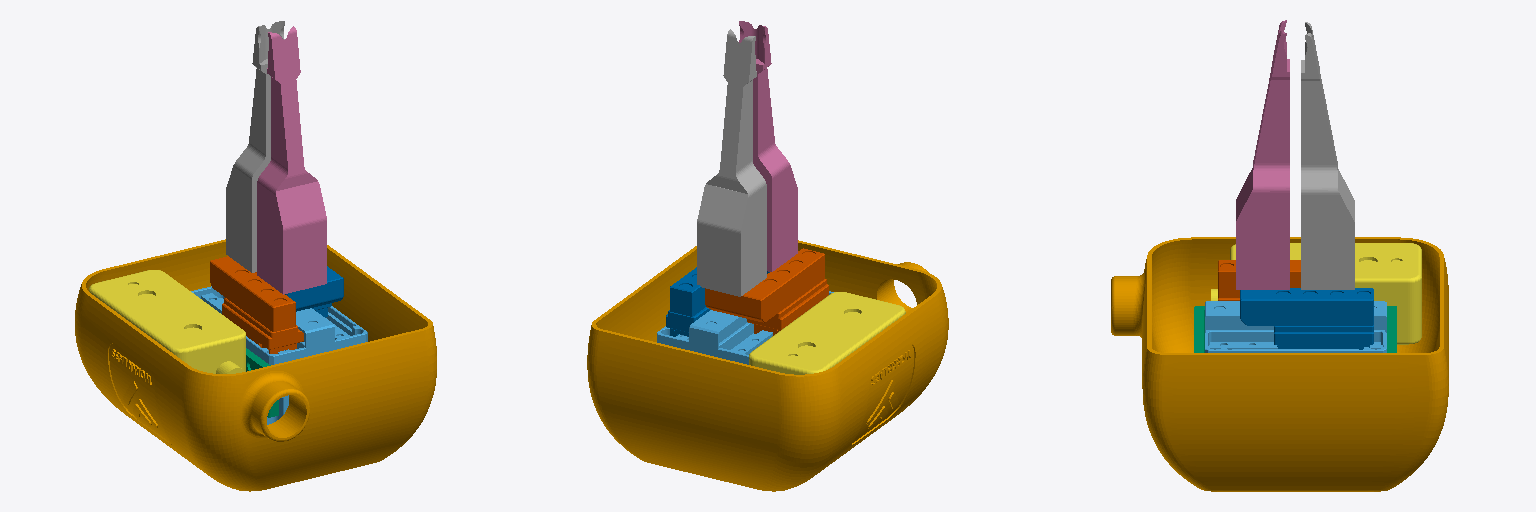
URDF robot description (eoat_long_fingers):
<?xml version="1.0" ?>
<robot name="eoat_long_fingers">

  <link name="gripper_base_link">
    <inertial>
      <origin xyz="-0.012996211999304508 -0.0024019764547994742 0.04076982152867182" rpy="0 0 0"/>
      <mass value="1.0605000550809303"/>
      <inertia ixx="0.004249" iyy="0.003671" izz="0.006383" ixy="-9.1e-05" iyz="6.4e-05" ixz="5.7e-05"/>
    </inertial>
    <visual>
      <origin xyz="0 0 0" rpy="0 0 0"/>
      <geometry>
        <mesh filename="eoat_meshes/base_link.stl" scale="0.001 0.001 0.001"/>
      </geometry>
      <material name="silver"/>
    </visual>
    <collision>
      <origin xyz="0 0 0" rpy="0 0 0"/>
      <geometry>
        <mesh filename="eoat_meshes/base_link.stl" scale="0.001 0.001 0.001"/>
      </geometry>
    </collision>
    </link>

  <link name="dh_robotics_body_1">
    <inertial>
      <origin xyz="-0.02681051277084723 -0.04467270928249986 0.03854641882498553" rpy="0 0 0"/>
      <mass value="3.18213722421451"/>
      <inertia ixx="0.003866" iyy="0.002335" izz="0.003358" ixy="-0.0" iyz="1.4e-05" ixz="-1e-06"/>
    </inertial>
    <visual>
      <origin xyz="-0.027086 -0.04375 -0.0024" rpy="0 0 0"/>
      <geometry>
        <mesh filename="eoat_meshes/dh_robotics_body_1.stl" scale="0.001 0.001 0.001"/>
      </geometry>
      <material name="silver"/>
    </visual>
    <collision>
      <origin xyz="-0.027086 -0.04375 -0.0024" rpy="0 0 0"/>
      <geometry>
        <mesh filename="eoat_meshes/dh_robotics_body_1.stl" scale="0.001 0.001 0.001"/>
      </geometry>
    </collision>
    </link>

  <link name="eoat_small_mount_1">
    <inertial>
      <origin xyz="0.01578890613988798 0.032881734772587795 -0.012002171986736913" rpy="0 0 0"/>
      <mass value="0.5078346893462174"/>
      <inertia ixx="0.00063" iyy="0.000902" izz="0.001469" ixy="4e-05" iyz="8e-06" ixz="-1.3e-05"/>
    </inertial>
    <visual>
      <origin xyz="0.030514 0.0275 -0.0643" rpy="0 0 0"/>
      <geometry>
        <mesh filename="eoat_meshes/eoat_small_mount_1.stl" scale="0.001 0.001 0.001"/>
      </geometry>
      <material name="silver"/>
    </visual>
    <collision>
      <origin xyz="0.030514 0.0275 -0.0643" rpy="0 0 0"/>
      <geometry>
        <mesh filename="eoat_meshes/eoat_small_mount_1.stl" scale="0.001 0.001 0.001"/>
      </geometry>
    </collision>
    </link>

  <link name="framos_d435e_1">
    <inertial>
      <origin xyz="-0.018694079306878303 0.02193359710023336 0.018961754588262228" rpy="0 0 0"/>
      <mass value="1.3969119500858993"/>
      <inertia ixx="0.00134" iyy="0.000416" izz="0.001426" ixy="4e-06" iyz="-1e-06" ixz="0.0"/>
    </inertial>
    <visual>
      <origin xyz="0.040064 0.0067 -0.0493" rpy="0 0 0"/>
      <geometry>
        <mesh filename="eoat_meshes/framos_d435e_1.stl" scale="0.001 0.001 0.001"/>
      </geometry>
      <material name="silver"/>
    </visual>
    <collision>
      <origin xyz="0.040064 0.0067 -0.0493" rpy="0 0 0"/>
      <geometry>
        <mesh filename="eoat_meshes/framos_d435e_1.stl" scale="0.001 0.001 0.001"/>
      </geometry>
    </collision>
    </link>

  <link name="dh_robotics_finger_2_1">
    <inertial>
      <origin xyz="-0.016972233255735367 -0.06037809562342396 0.004552489278633928" rpy="0 0 0"/>
      <mass value="0.4627919710419897"/>
      <inertia ixx="0.000413" iyy="0.000291" izz="0.000225" ixy="-5.7e-05" iyz="0.000111" ixz="7.1e-05"/>
    </inertial>
    <visual>
      <origin xyz="-0.026522 -0.057026 -0.101575" rpy="0 0 0"/>
      <geometry>
        <mesh filename="eoat_meshes/dh_robotics_finger_2_1.stl" scale="0.001 0.001 0.001"/>
      </geometry>
      <material name="silver"/>
    </visual>
    <collision>
      <origin xyz="-0.026522 -0.057026 -0.101575" rpy="0 0 0"/>
      <geometry>
        <mesh filename="eoat_meshes/dh_robotics_finger_2_1.stl" scale="0.001 0.001 0.001"/>
      </geometry>
    </collision>
    </link>

  <link name="dh_robotics_finger_1_1">
    <inertial>
      <origin xyz="0.009600781936190792 -0.017373904376575773 0.0035524892786333723" rpy="0 0 0"/>
      <mass value="0.46279197104200676"/>
      <inertia ixx="0.000413" iyy="0.000291" izz="0.000225" ixy="-5.7e-05" iyz="-0.000111" ixz="-7.1e-05"/>
    </inertial>
    <visual>
      <origin xyz="0.018478 -0.020726 -0.101575" rpy="0 0 0"/>
      <geometry>
        <mesh filename="eoat_meshes/dh_robotics_finger_1_1.stl" scale="0.001 0.001 0.001"/>
      </geometry>
      <material name="silver"/>
    </visual>
    <collision>
      <origin xyz="0.018478 -0.020726 -0.101575" rpy="0 0 0"/>
      <geometry>
        <mesh filename="eoat_meshes/dh_robotics_finger_1_1.stl" scale="0.001 0.001 0.001"/>
      </geometry>
    </collision>
    </link>

  <link name="long_finger_2_1">
    <inertial>
      <origin xyz="2.7434026480963264e-07 -0.0014362914745991232 -0.0014740147176616203" rpy="0 0 0"/>
      <mass value="0.23293638337878628"/>
      <inertia ixx="0.000293" iyy="0.000292" izz="3.2e-05" ixy="-0.0" iyz="-2.5e-05" ixz="-0.0"/>
    </inertial>
    <visual>
      <origin xyz="-0.000336 0.01275 -0.1594" rpy="0 0 0"/>
      <geometry>
        <mesh filename="eoat_meshes/long_finger_2_1.stl" scale="0.001 0.001 0.001"/>
      </geometry>
      <material name="silver"/>
    </visual>
    <collision>
      <origin xyz="-0.000336 0.01275 -0.1594" rpy="0 0 0"/>
      <geometry>
        <mesh filename="eoat_meshes/long_finger_2_1.stl" scale="0.001 0.001 0.001"/>
      </geometry>
    </collision>
    </link>

  <link name="long_finger_1_1">
    <inertial>
      <origin xyz="2.7434019061323275e-07 0.0014362914745988473 -0.001474014717661648" rpy="0 0 0"/>
      <mass value="0.23293638337878628"/>
      <inertia ixx="0.000293" iyy="0.000292" izz="3.2e-05" ixy="-0.0" iyz="2.5e-05" ixz="0.0"/>
    </inertial>
    <visual>
      <origin xyz="-0.000336 -0.01275 -0.1584" rpy="0 0 0"/>
      <geometry>
        <mesh filename="eoat_meshes/long_finger_1_1.stl" scale="0.001 0.001 0.001"/>
      </geometry>
      <material name="silver"/>
    </visual>
    <collision>
      <origin xyz="-0.000336 -0.01275 -0.1584" rpy="0 0 0"/>
      <geometry>
        <mesh filename="eoat_meshes/long_finger_1_1.stl" scale="0.001 0.001 0.001"/>
      </geometry>
    </collision>
    </link>

  <joint name="Rigid 2" type="fixed">
    <origin xyz="0.027086 0.04375 0.0024" rpy="0 0 0"/>
    <parent link="gripper_base_link"/>
    <child link="dh_robotics_body_1"/>
    </joint>

  <joint name="Rigid 7" type="fixed">
    <origin xyz="-0.0576 -0.07125 0.0619" rpy="0 0 0"/>
    <parent link="dh_robotics_body_1"/>
    <child link="eoat_small_mount_1"/>
    </joint>

  <joint name="Rigid 8" type="fixed">
    <origin xyz="-0.00955 0.0208 -0.015" rpy="0 0 0"/>
    <parent link="eoat_small_mount_1"/>
    <child link="framos_d435e_1"/>
    </joint>

  <joint name="Slider 10" type="prismatic">
    <origin xyz="-0.000564 0.013276 0.099175" rpy="0 0 0"/>
    <parent link="dh_robotics_body_1"/>
    <child link="dh_robotics_finger_2_1"/>
    <axis xyz="0.0 1.0 -0.0"/>
    <limit upper="0.0" lower="-0.04" effort="100" velocity="100"/>
    </joint>

  <joint name="Slider 11" type="prismatic">
    <origin xyz="-0.045564 -0.023024 0.099175" rpy="0 0 0"/>
    <parent link="dh_robotics_body_1"/>
    <child link="dh_robotics_finger_1_1"/>
    <axis xyz="0.0 1.0 -0.0"/>
    <limit upper="0.04" lower="0.0" effort="100" velocity="100"/>
    </joint>

  <joint name="Rigid 15" type="fixed">
    <origin xyz="-0.026186 -0.069776 0.057825" rpy="0 0 0"/>
    <parent link="dh_robotics_finger_2_1"/>
    <child link="long_finger_2_1"/>
    </joint>

  <joint name="Rigid 16" type="fixed">
    <origin xyz="0.018814 -0.007976 0.056825" rpy="0 0 0"/>
    <parent link="dh_robotics_finger_1_1"/>
    <child link="long_finger_1_1"/>
    </joint>

</robot>

--- Facts derived from the render (not from the file) ---
3 views of the same robot in one strip: view 1: azimuth 30°, elevation 25°; view 2: azimuth 150°, elevation 25°; view 3: azimuth 270°, elevation 25° (orthographic).
Model eoat_long_fingers with 8 links and 7 joints (2 prismatic, 5 fixed), rooted at gripper_base_link, posed every joint at zero.
Visible links, largest first — view 1: gripper_base_link, long_finger_2_1, framos_d435e_1, long_finger_1_1, dh_robotics_finger_1_1, dh_robotics_body_1, dh_robotics_finger_2_1; view 2: gripper_base_link, long_finger_1_1, framos_d435e_1, long_finger_2_1, dh_robotics_finger_1_1, dh_robotics_body_1, dh_robotics_finger_2_1; view 3: gripper_base_link, long_finger_2_1, long_finger_1_1, dh_robotics_finger_2_1, framos_d435e_1, dh_robotics_body_1, dh_robotics_finger_1_1, eoat_small_mount_1.
Boxes of the visible links, <box> form: gripper_base_link: <box>75,239,436,491</box>; long_finger_2_1: <box>257,26,326,294</box>; framos_d435e_1: <box>89,270,245,373</box>; long_finger_1_1: <box>226,21,284,272</box>; dh_robotics_finger_1_1: <box>210,256,303,353</box>; dh_robotics_body_1: <box>191,286,367,424</box>; dh_robotics_finger_2_1: <box>285,266,343,317</box>; gripper_base_link: <box>587,240,948,491</box>; long_finger_1_1: <box>697,29,766,296</box>; framos_d435e_1: <box>749,292,905,374</box>; long_finger_2_1: <box>739,21,797,271</box>; dh_robotics_finger_1_1: <box>705,248,828,335</box>; dh_robotics_body_1: <box>657,291,833,364</box>; dh_robotics_finger_2_1: <box>666,267,769,336</box>; gripper_base_link: <box>1111,237,1448,491</box>; long_finger_2_1: <box>1236,20,1289,289</box>; long_finger_1_1: <box>1301,22,1354,289</box>; dh_robotics_finger_2_1: <box>1240,288,1373,349</box>; framos_d435e_1: <box>1211,243,1421,344</box>; dh_robotics_body_1: <box>1205,301,1386,352</box>; dh_robotics_finger_1_1: <box>1218,260,1300,300</box>; eoat_small_mount_1: <box>1194,306,1396,352</box>.
Size in the robot's own frame: 0.15 by 0.1761 by 0.2494 metres.
8 mesh visuals loaded from 8 distinct referenced files (8 binary STL).
